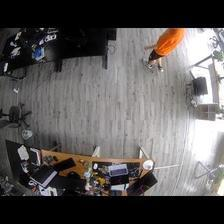fall: (140, 28, 187, 73)
